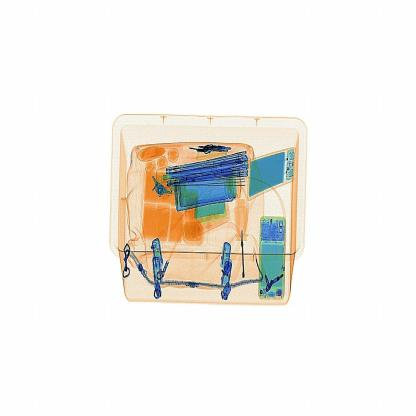wrench: (228, 189, 262, 289)
